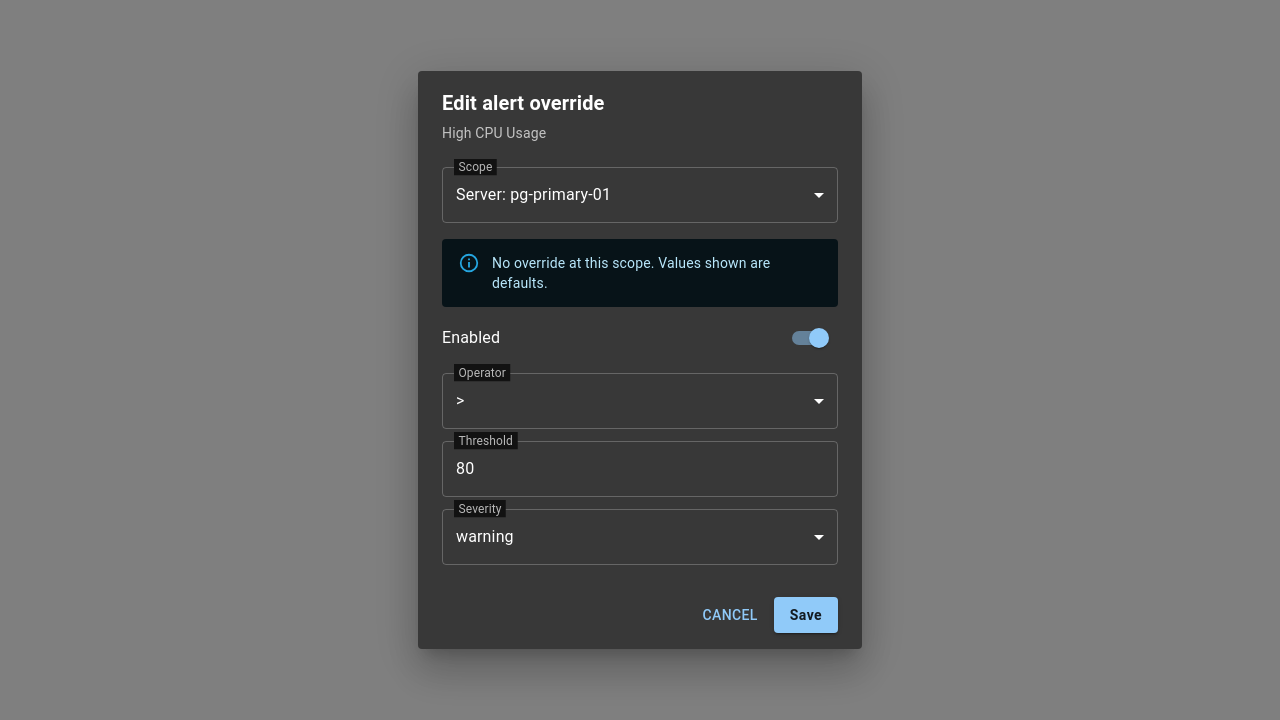
Scenario: AlertOverrideEditDialog › shows only server scope for standalone server
Check: the text "High CPU Usage" is shown, box [442,125,546,141]
Press the mouse on the dropdown labelled "Server: pg-primary-01" at coordinates (534, 195), box [456,185,611,204]
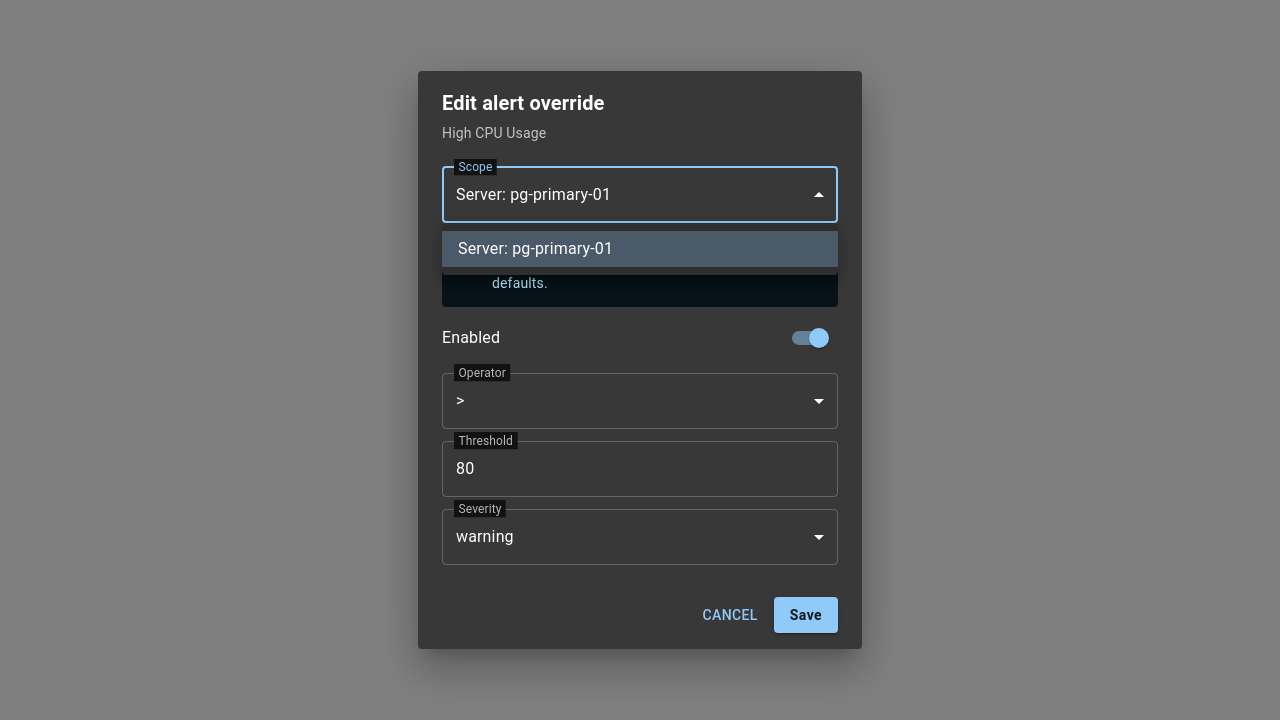
Check: the list is shown, box [442,223,838,275]
